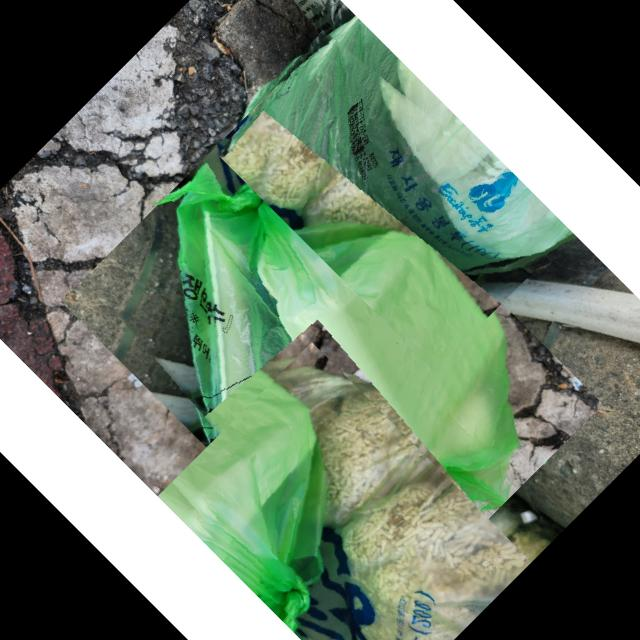general_trashbag: (149, 172, 517, 509), (230, 35, 570, 268), (269, 369, 529, 640)
